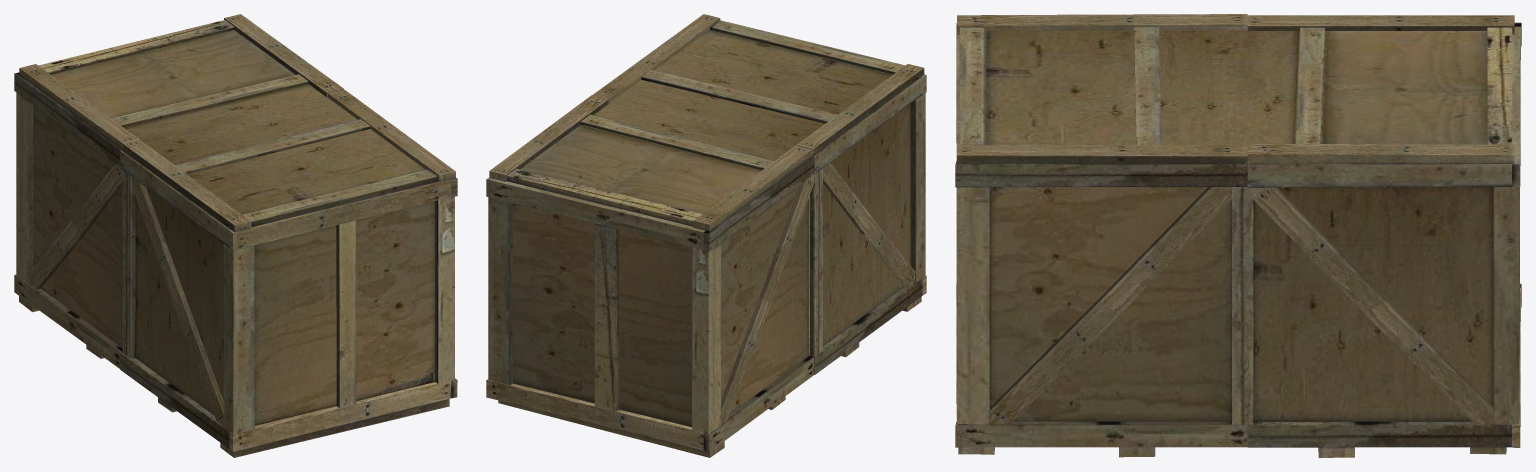
The model's file is wood_crate002a.glb.
3 renders of one model, left to right at view 1: azimuth 30°, elevation 25°; view 2: azimuth 150°, elevation 25°; view 3: azimuth 270°, elevation 25°, orthographic. The views are drawn at different scales.
Parts seen in each view (by area): view 1: 0_woodcrates01a; view 2: 0_woodcrates01a; view 3: 0_woodcrates01a.
Boxes of the visible parts, left/top/right/bottom form: 0_woodcrates01a: left=14, top=14, right=457, bottom=457; 0_woodcrates01a: left=486, top=14, right=926, bottom=457; 0_woodcrates01a: left=955, top=14, right=1521, bottom=457.
Size of the model in its own units: 1.03 by 1.02 by 1.72.
Materials: 1 (1 with a texture image).
